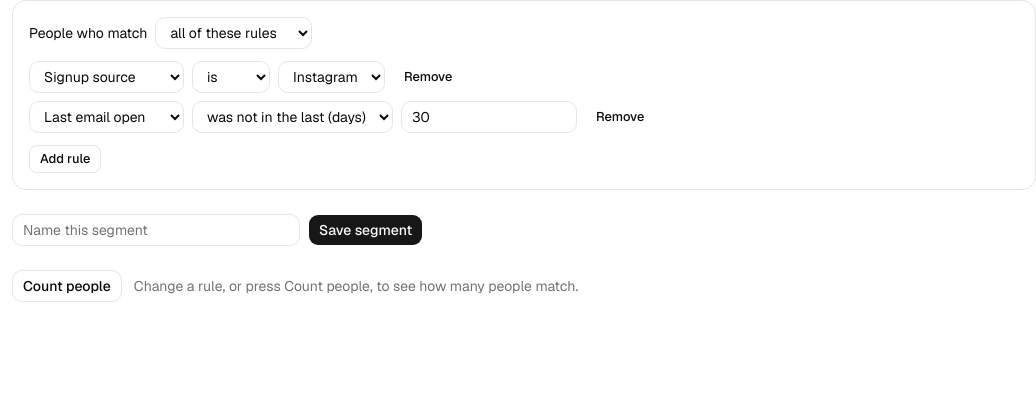
Test case: SegmentBuilder › counts the starting rules when Count people is pressed
Step 1. Click the button "Count people" → (67, 286), box x1=12 y1=270 x2=122 y2=302
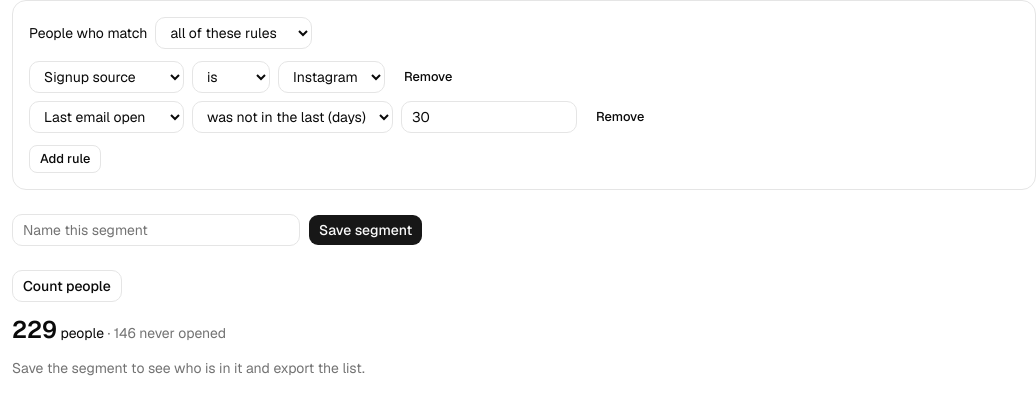
Check: the text "229" is shown, box x1=12 y1=314 x2=57 y2=345
Check: the text "· 146 never opened" is shown, box x1=104 y1=324 x2=226 y2=342
